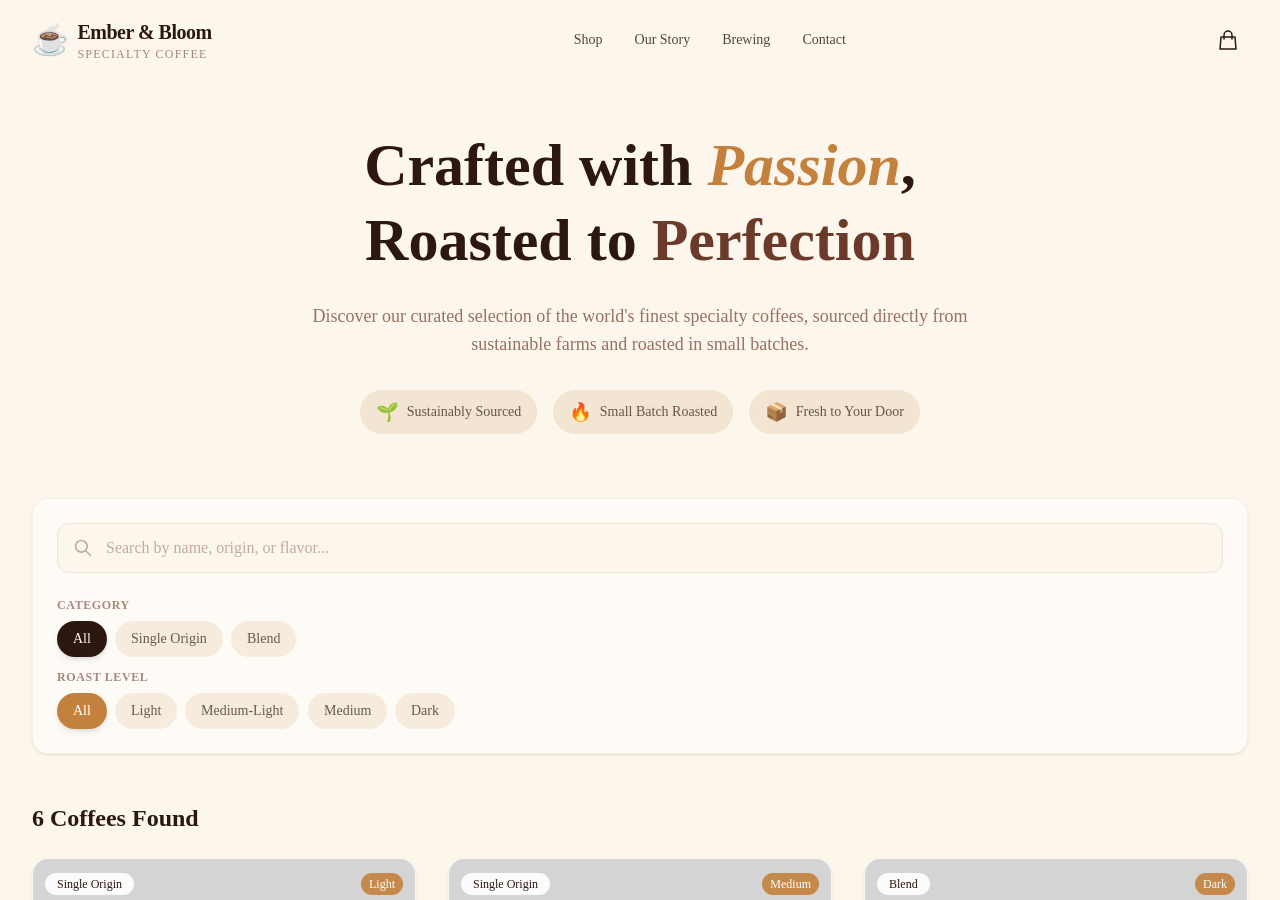
Scenario: <App /> — shop UI › shows the empty state when nothing matches
Type "zzz-no-such-coffee" into the field with placeholder "Search by name, origin, or flavor..." at (640, 548), box 57,523 -> 1223,573
(page scrolled)
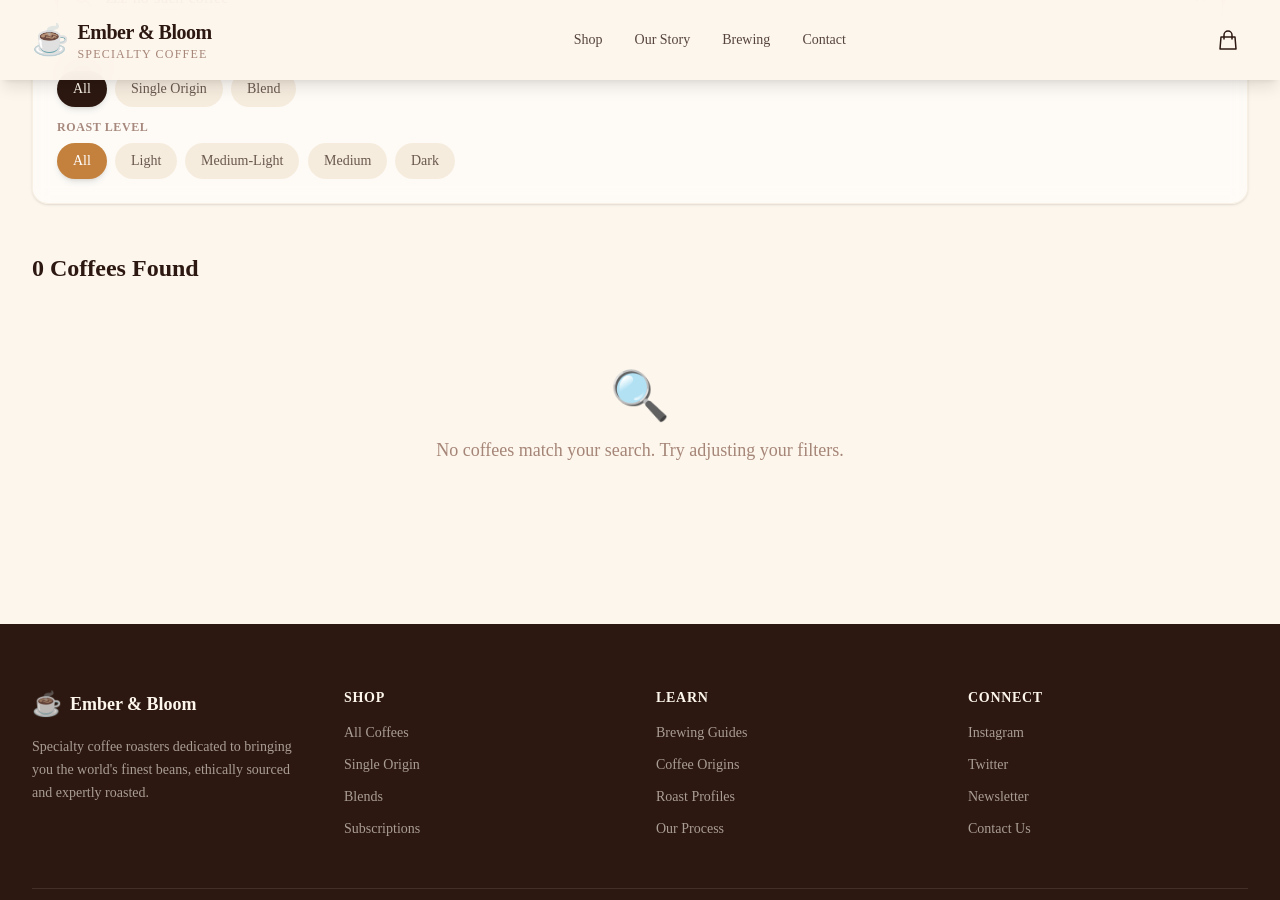
Expected: the text "No coffees match your search. Try adjusting your filters." is shown, 436,440 -> 844,460
